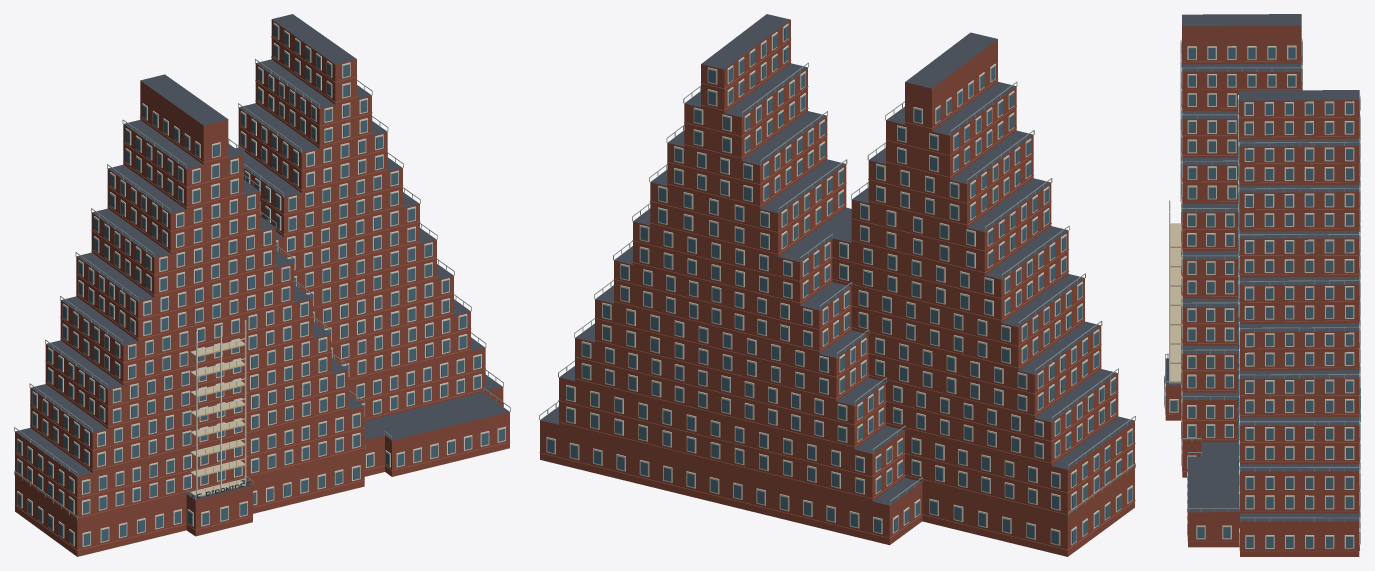
The model's file is de-piramides.glb.
The picture shows the model from 3 angles, left to right: view 1: azimuth 30°, elevation 25°; view 2: azimuth 150°, elevation 25°; view 3: azimuth 270°, elevation 25°; orthographic projection. The views are drawn at different scales.
Parts seen in each view (by area): view 1: de-piramides; view 2: de-piramides; view 3: de-piramides.
Boxes of the visible parts, box(x1,y1,x2,y2) form: de-piramides: box(14, 14, 510, 556); de-piramides: box(539, 14, 1135, 556); de-piramides: box(1164, 14, 1360, 556).
Size of the model in its own units: 65.89 by 55 by 25.35.
